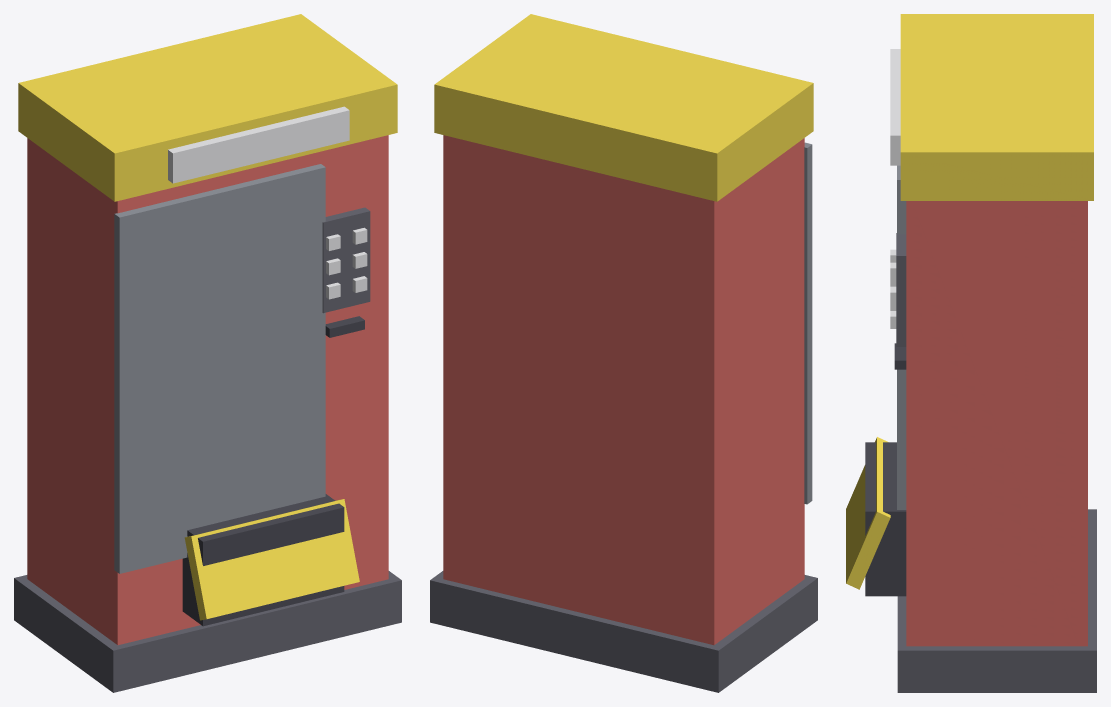
The model's file is duckomat.glb.
3 renders of one model, left to right at view 1: azimuth 30°, elevation 25°; view 2: azimuth 150°, elevation 25°; view 3: azimuth 270°, elevation 25°, orthographic.
Visible parts, largest first — view 1: duckomat; view 2: duckomat; view 3: duckomat.
Boxes of the visible parts, left/top/right/bottom form: duckomat: left=14, top=14, right=401, bottom=692; duckomat: left=430, top=14, right=817, bottom=692; duckomat: left=846, top=14, right=1096, bottom=692.
Bounding box in the file's own units: 1 × 1.78 × 0.75.
